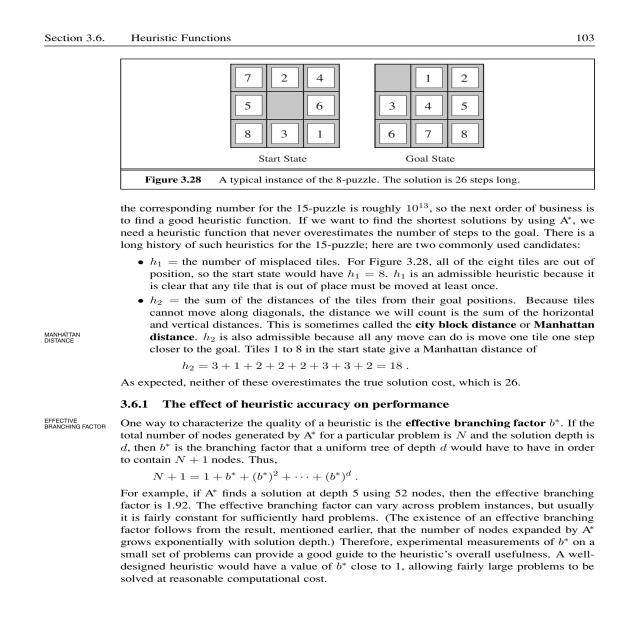diagram: (65, 54, 640, 196)
